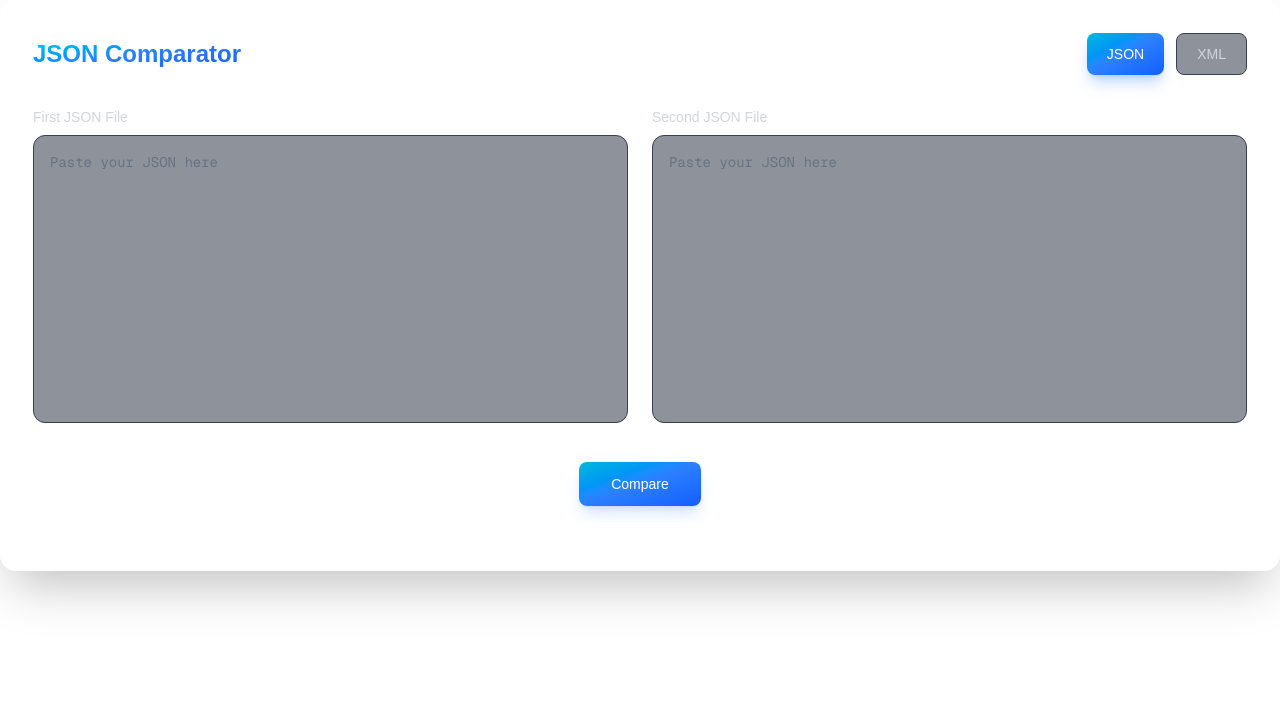
Test: Comparator › shows XML comparison result
Click the button "XML" at (1212, 54), box x1=1176 y1=33 x2=1247 y2=75
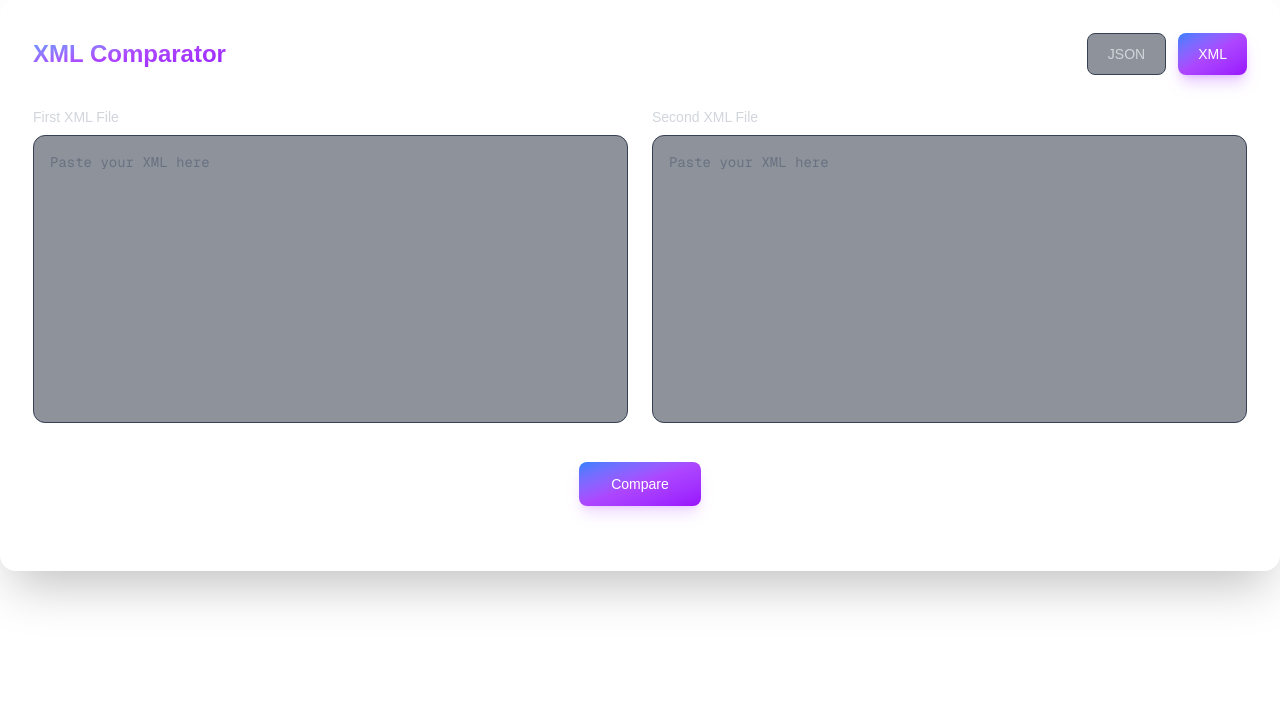
Type "<root><test>value1</test></root>" into the text box labelled "First XML File" at (330, 279), box x1=33 y1=135 x2=628 y2=423
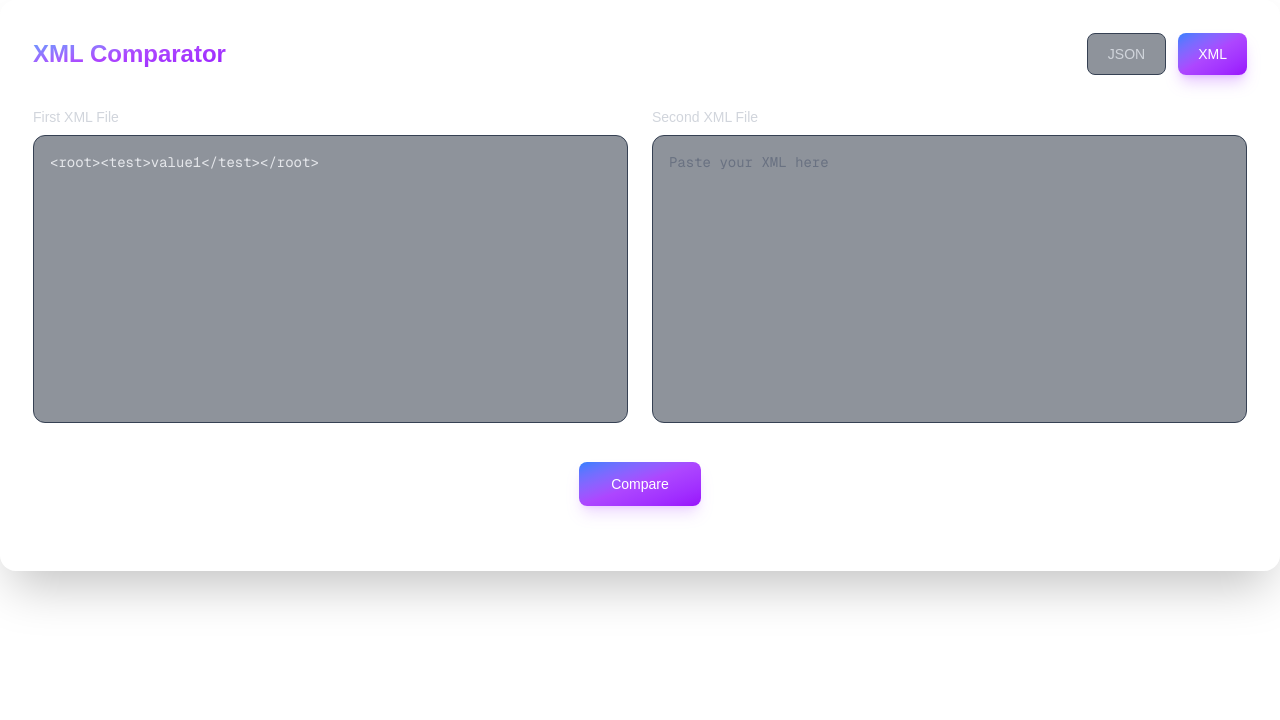
Type "<root><test>value2</test></root>" into the text box labelled "Second XML File" at (950, 279), box x1=652 y1=135 x2=1247 y2=423
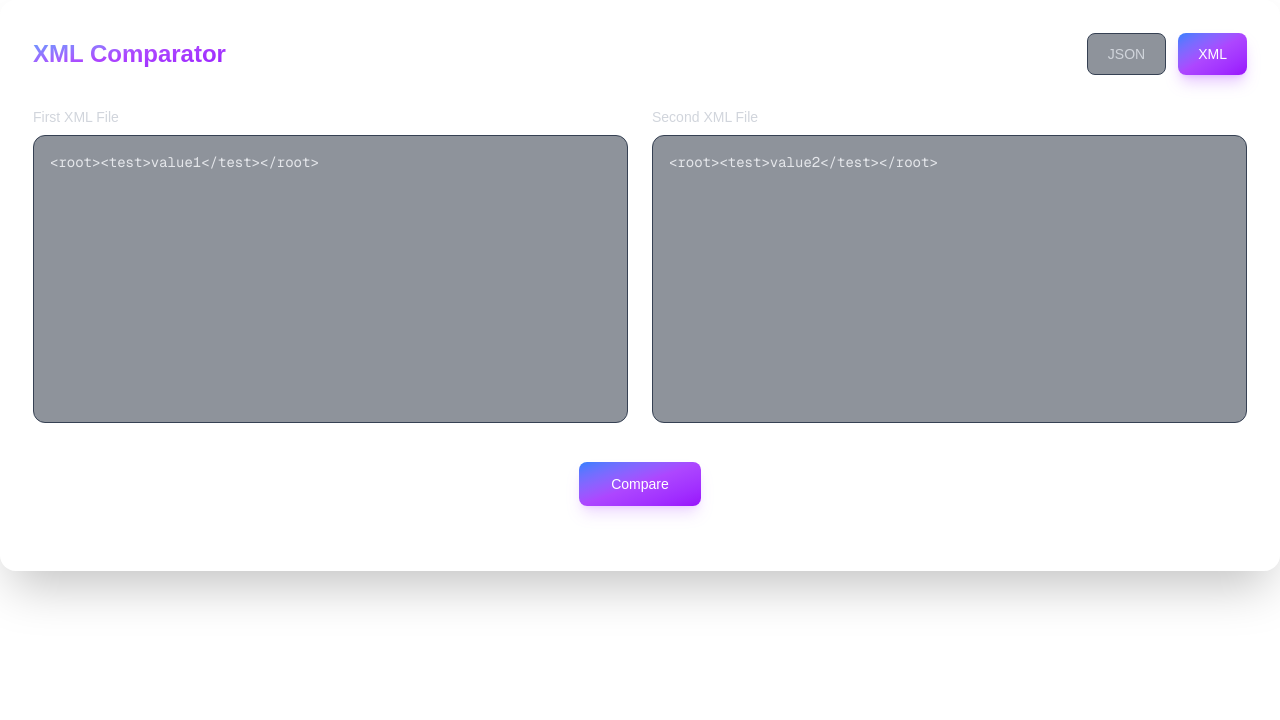
Click the button "Compare" at (640, 484), box x1=579 y1=462 x2=701 y2=506
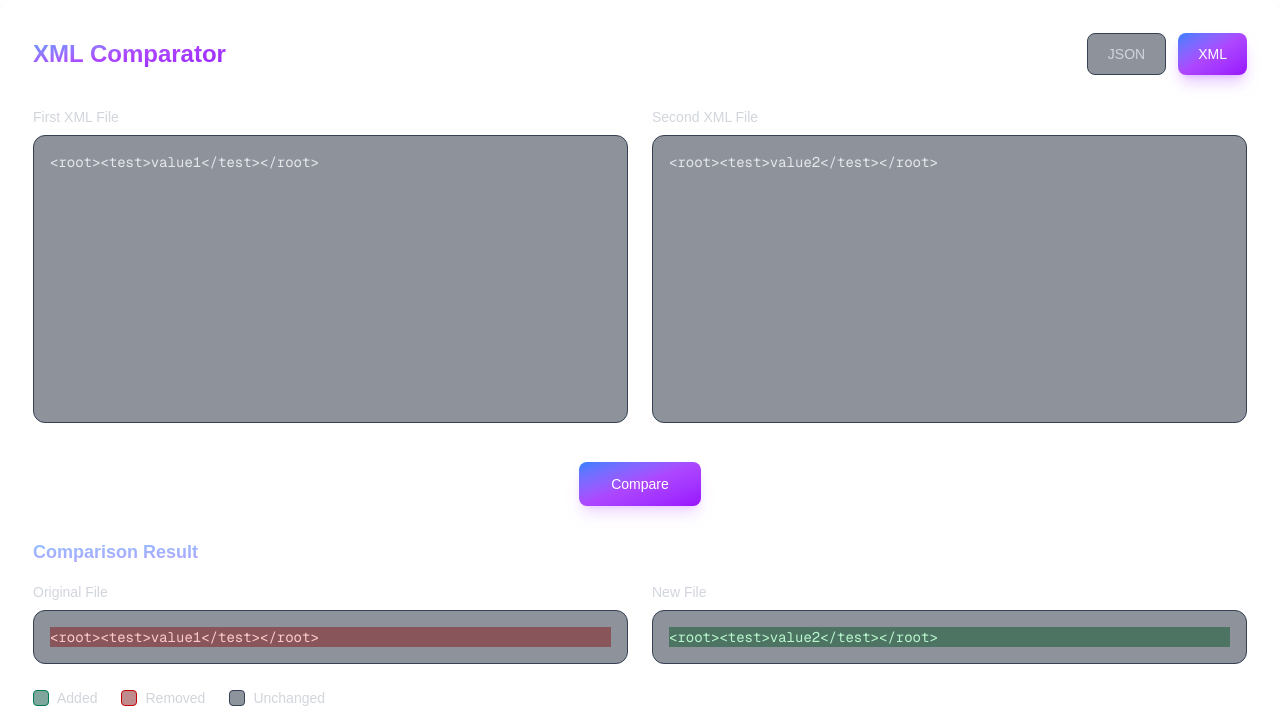
Expected: the heading "Comparison Result" is shown, x1=33 y1=538 x2=1247 y2=566
Expected: the heading "Original File" is shown, x1=33 y1=584 x2=108 y2=600
Expected: the heading "New File" is shown, x1=652 y1=584 x2=706 y2=600
